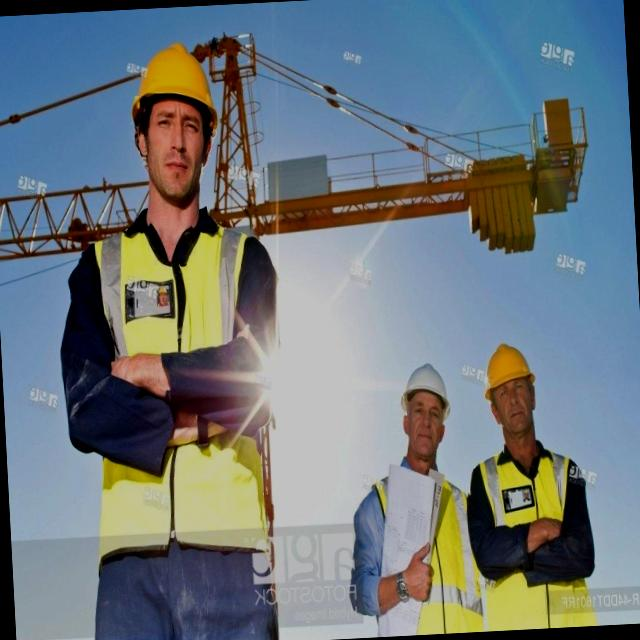helmet: (126, 45, 213, 115), (484, 342, 534, 396), (404, 361, 456, 404)
no-goggles: (142, 110, 206, 138), (492, 378, 534, 412), (408, 400, 445, 423)
vest: (94, 235, 268, 567), (466, 452, 600, 632), (396, 463, 480, 636)
